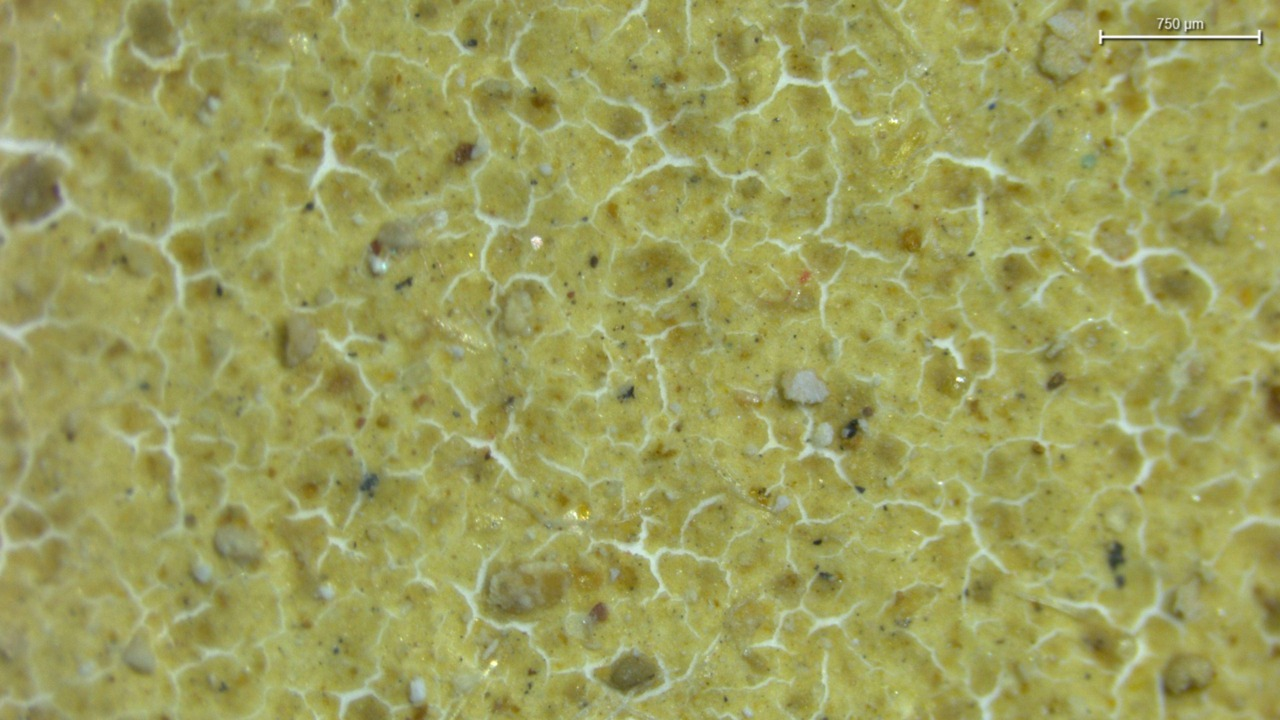microplastic_fragment: (1037, 10, 1093, 82), (785, 370, 829, 404)
